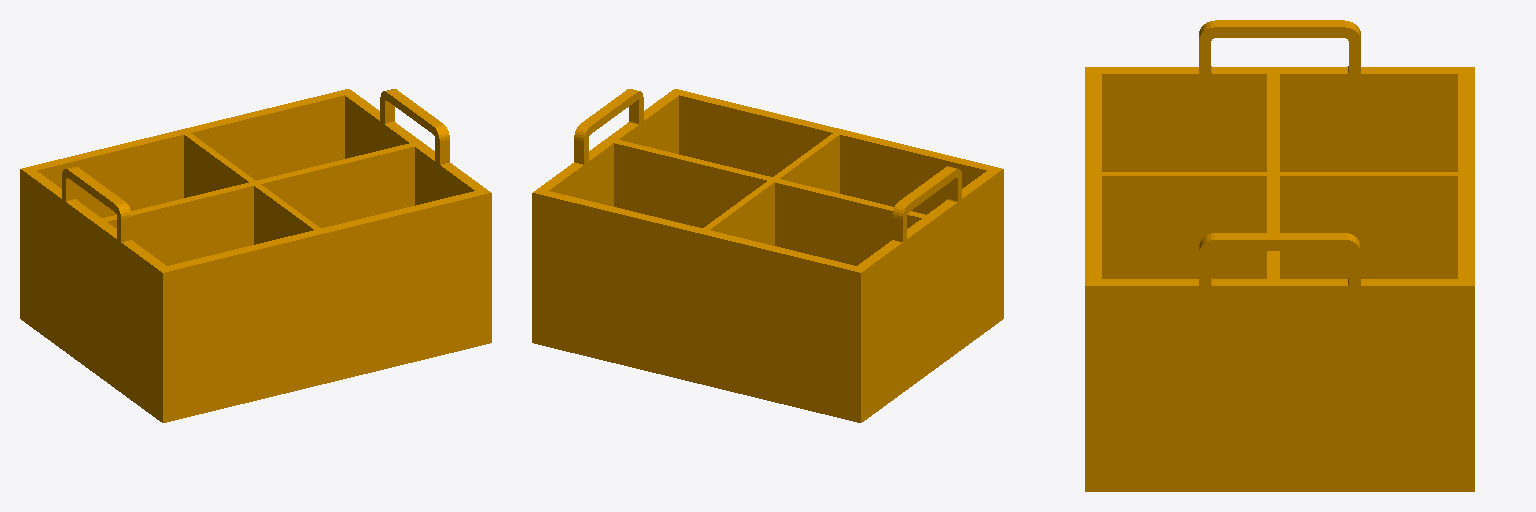
robot.urdf — bottle:
<?xml version="1.0" ?>
<robot name="bottle">

<material name="silver">
  <color rgba="1 1 1 1.000"/>
</material>

<link name="base_link">
  <inertial>
    <origin xyz="-0.00020925756291659248 -0.0004549983241387025 0.05564650474976721" rpy="0 0 0"/>
    <mass value="21.046549725774398"/>
    <inertia ixx="0.18342407203944716" iyy="0.28142836278065264" izz="0.3770194552619844" ixy="2.667790051158333e-06" iyz="0.00018533187394991955" ixz="8.523569036665113e-05"/>
  </inertial>
  <visual>
    <origin xyz="0 0 0" rpy="0 0 0"/>
    <geometry>
      <mesh filename="meshes/wooden_bottle_crate.obj" scale="0.01 0.01 0.01"/>
    </geometry>
     <material name="silver"/>
    <material/>
  </visual>
  <collision>
    <origin xyz="0 0 0" rpy="0 0 0"/>
    <geometry>
      <mesh filename="meshes/decomp.obj" scale="0.01 0.01 0.01"/>
    </geometry>
  </collision>
</link>

</robot>

--- Render facts (derived) ---
Views: 3 orthographic renders of the robot side by side, from view 1: azimuth 30°, elevation 25°; view 2: azimuth 150°, elevation 25°; view 3: azimuth 270°, elevation 25°.
Robot: bottle — 1 links, 0 joints (none); root link base_link; default pose: all joints at 0.
Links seen in each view (by area): view 1: base_link; view 2: base_link; view 3: base_link.
Boxes of the visible links, <box> form: base_link: <box>20,89,491,422</box>; base_link: <box>532,89,1003,422</box>; base_link: <box>1085,20,1474,491</box>.
Bounding box of the posed robot: 0.4243 × 0.3182 × 0.2273 m (x, y, z).
1 mesh visuals loaded from 1 distinct referenced files (1 OBJ).